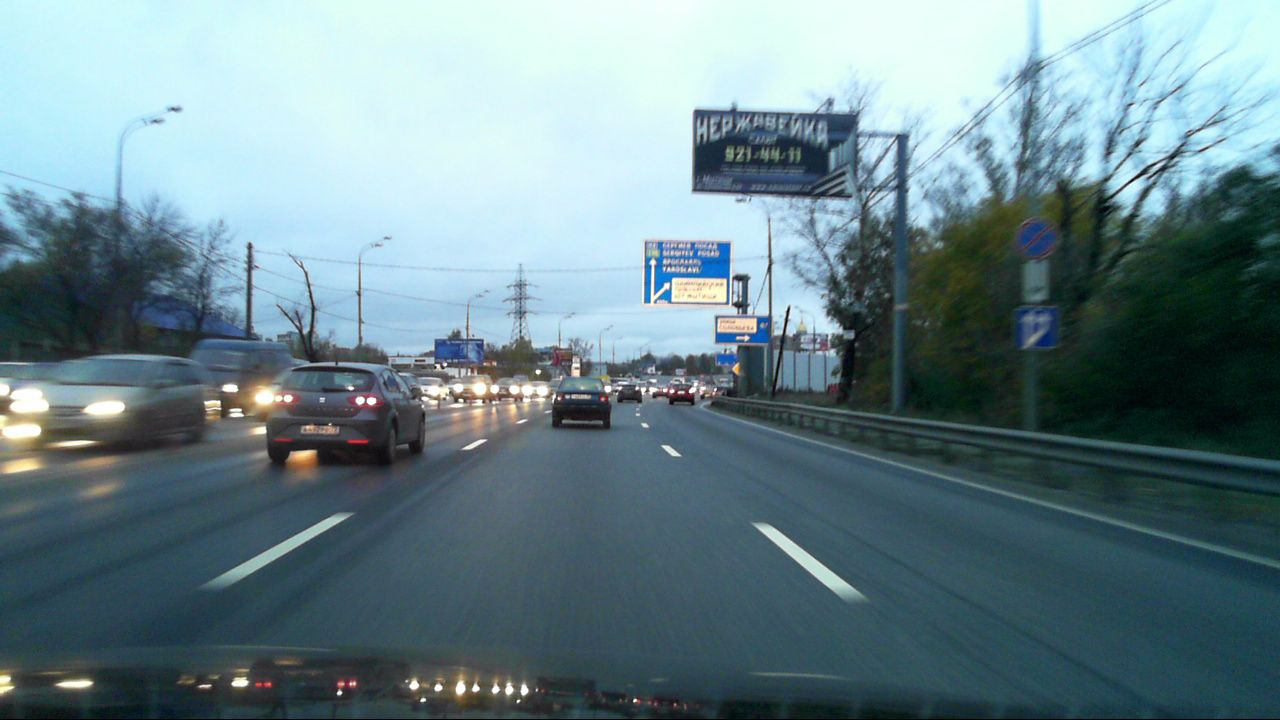No Parking: (1018, 217, 1056, 257)
